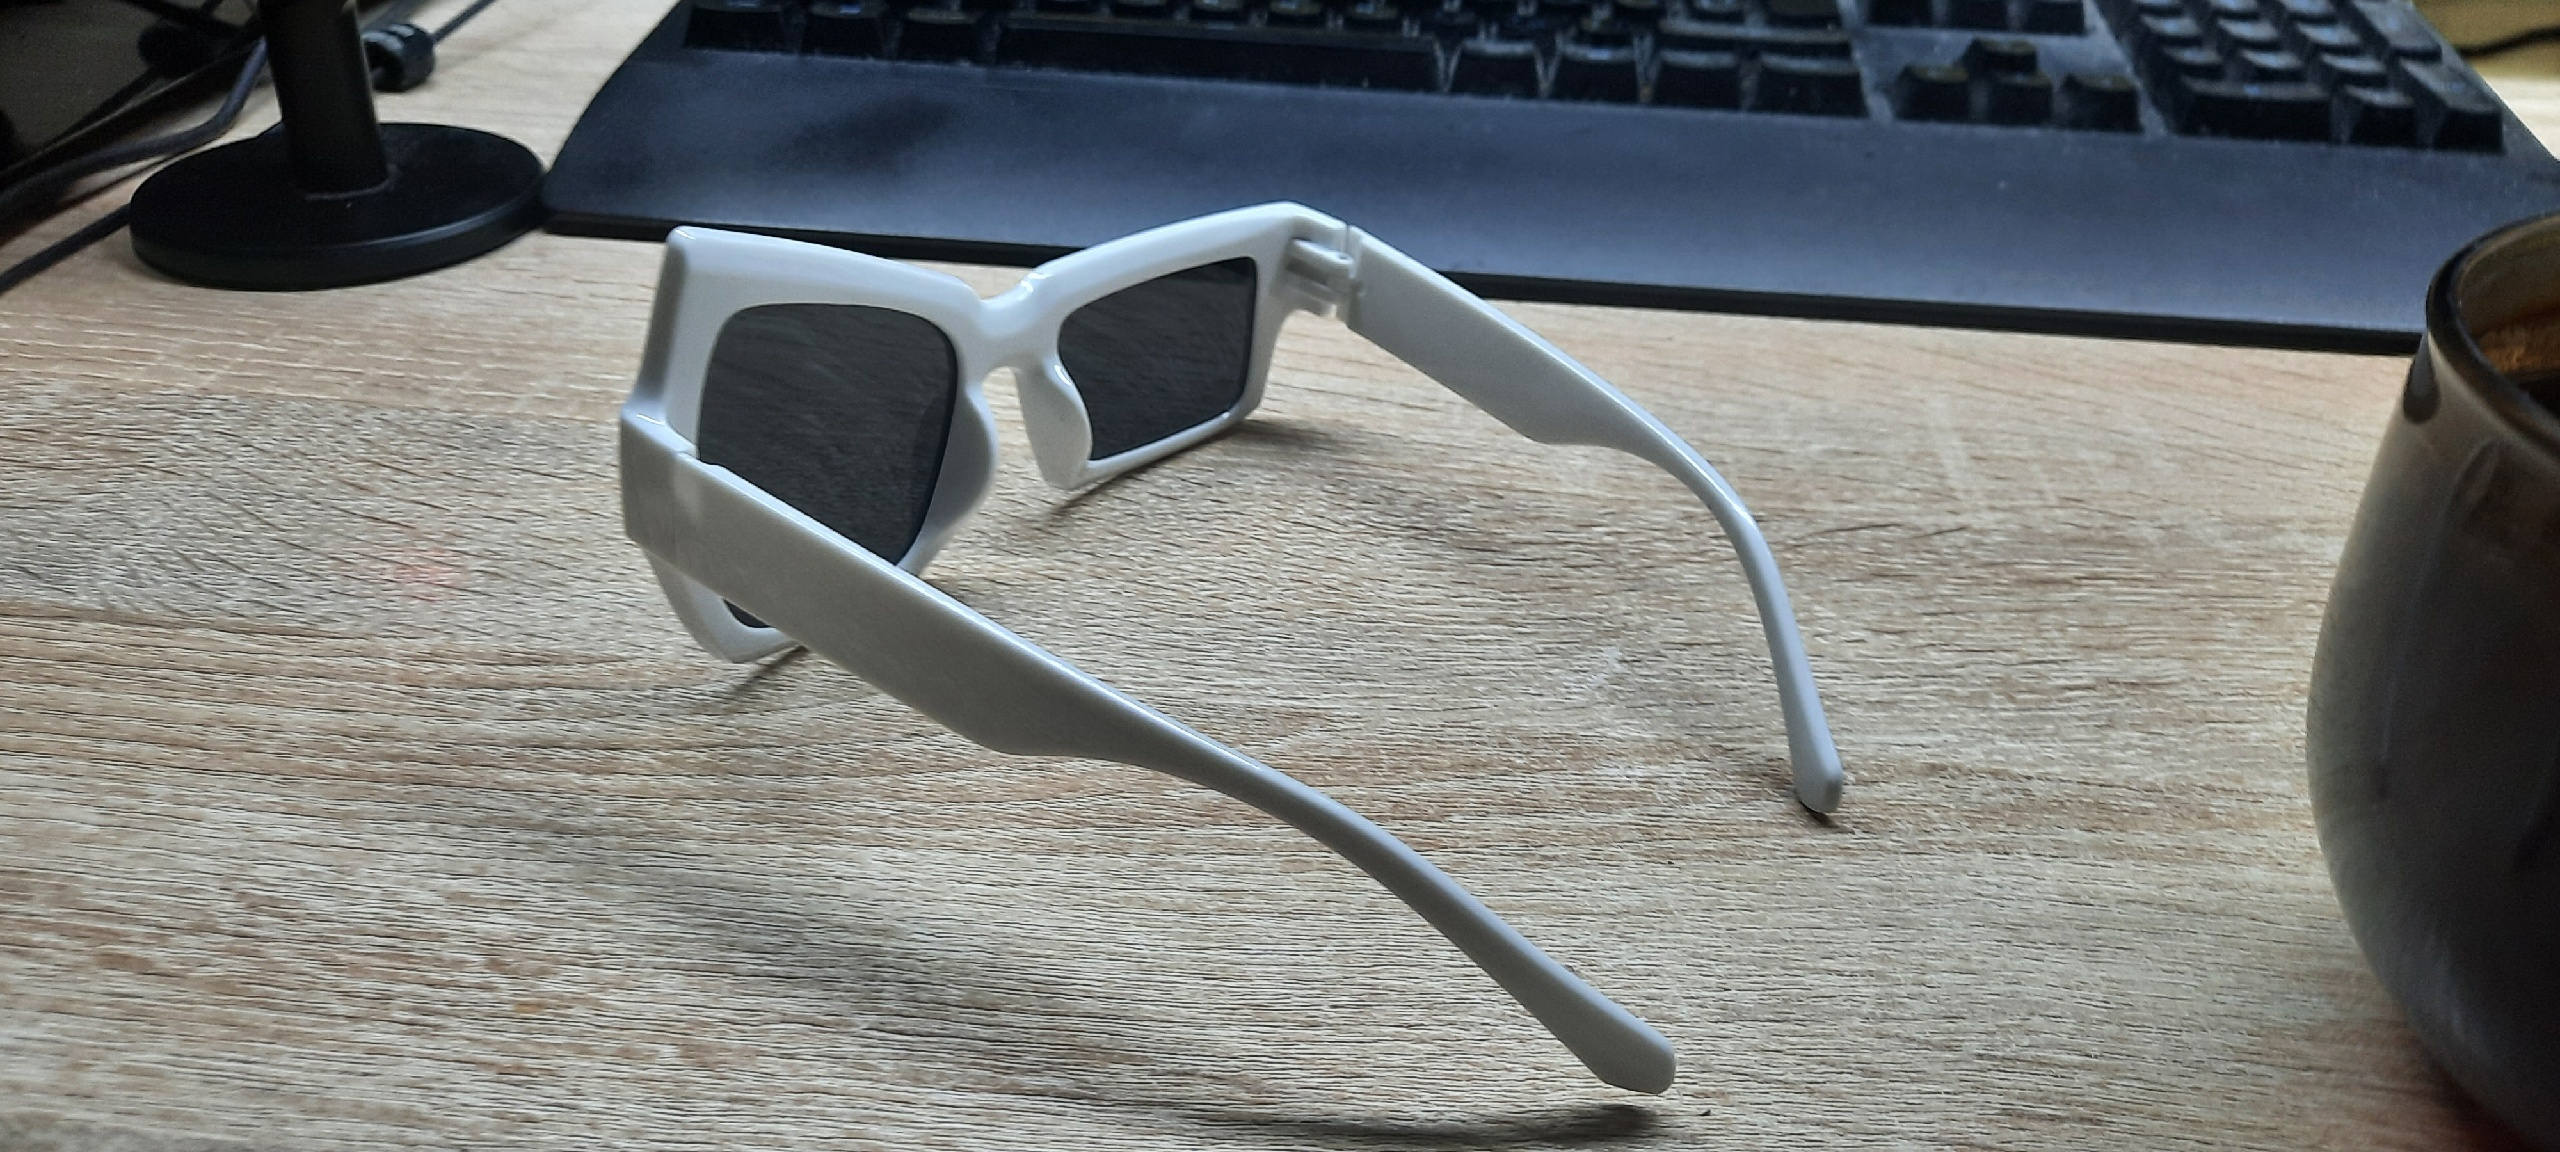glasses: (620, 206, 1840, 1092)
